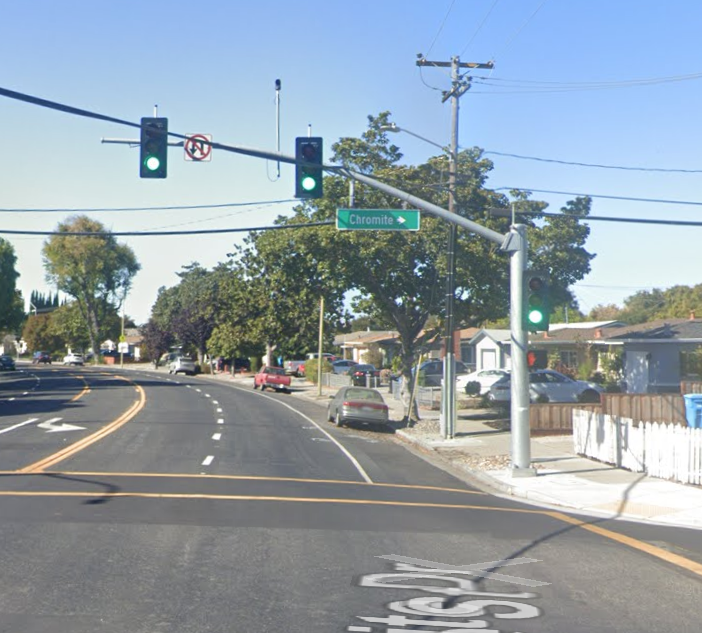green_light: (294, 138, 323, 195), (141, 118, 168, 176), (524, 272, 549, 332)
